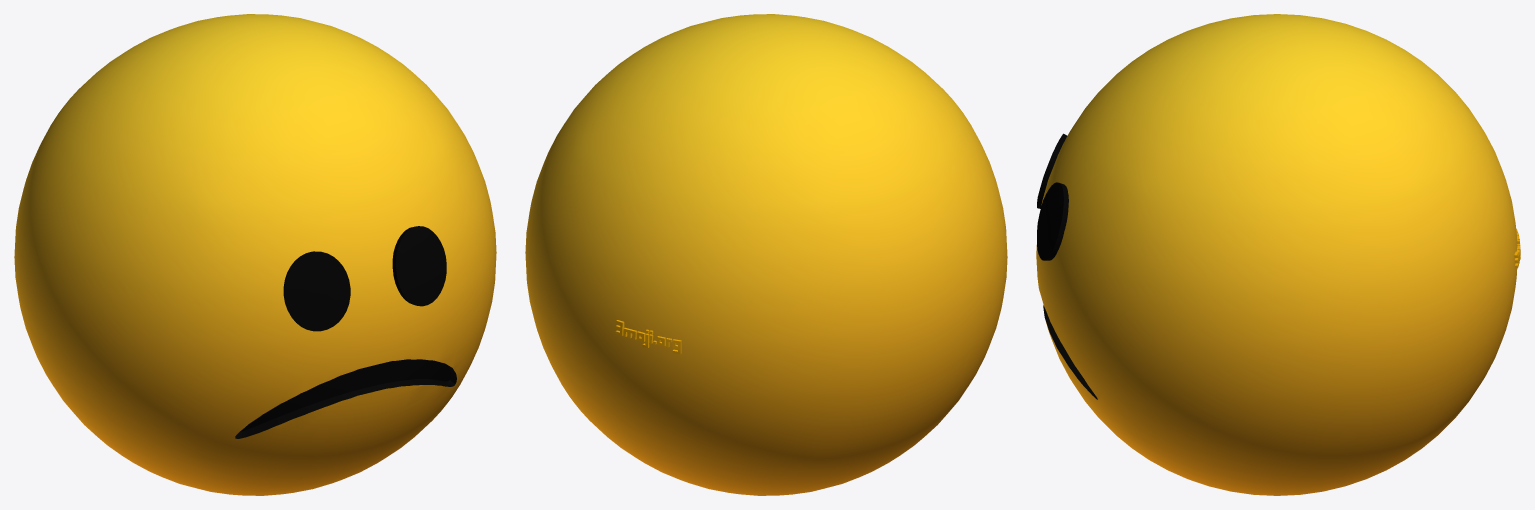
The model's file is frowning_face.glb.
3 renders of one model, left to right at view 1: azimuth 30°, elevation 25°; view 2: azimuth 150°, elevation 25°; view 3: azimuth 270°, elevation 25°, orthographic.
Visible parts, largest first — view 1: Frowning Face; view 2: Frowning Face; view 3: Frowning Face.
Boxes of the visible parts, bbox=[...] form: Frowning Face: bbox=[14, 14, 496, 495]; Frowning Face: bbox=[525, 14, 1007, 495]; Frowning Face: bbox=[1036, 14, 1520, 495].
Size of the model in its own units: 1.69 by 1.69 by 1.7.
1 material, 1 textured.
